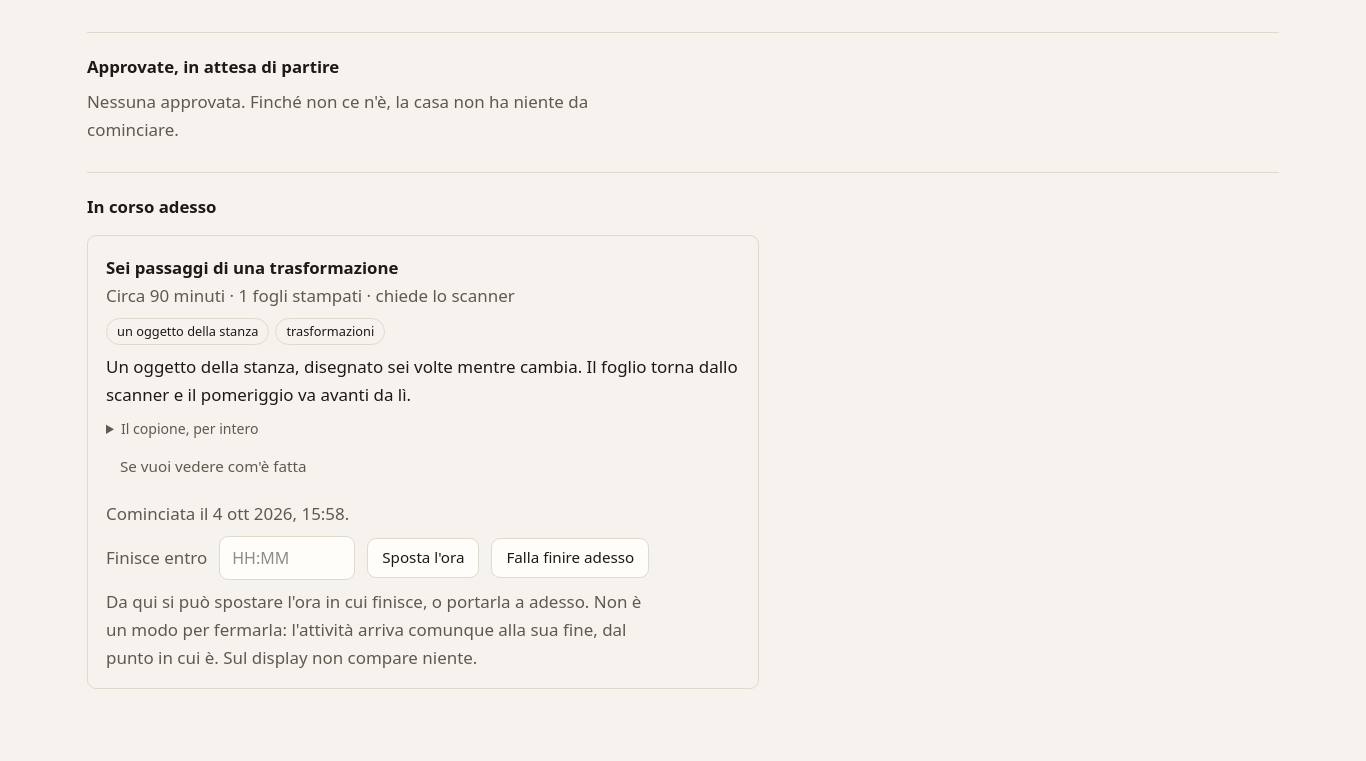
Test: an afternoon the house has begun › says so and keeps the hour when it does not get through
(page scrolled)
Click the button "Falla finire adesso". click: (570, 558)
box: [492,538,649,578]
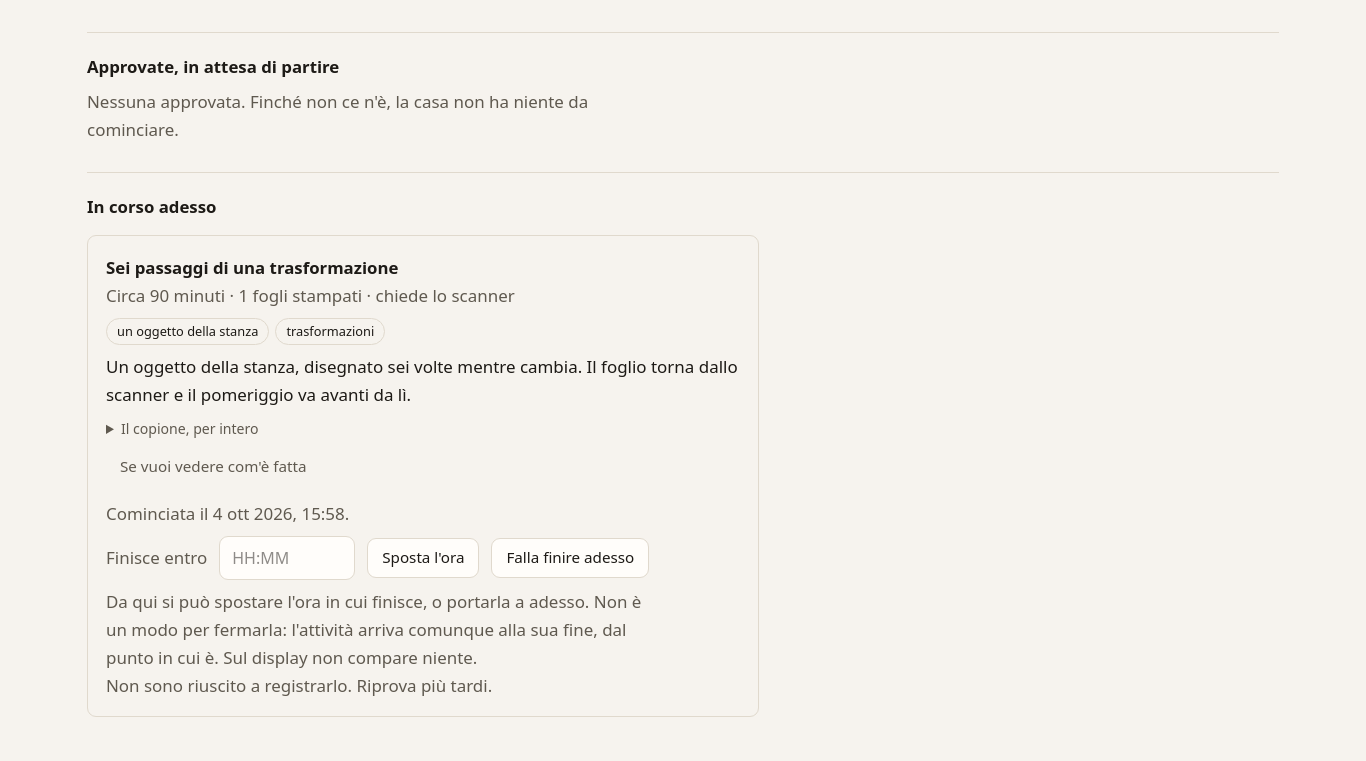
expect the text "Non sono riuscito a registrarlo. Riprova più tardi." is shown: met, box [106,674,492,697]
